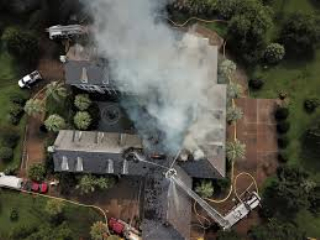smoke: (91, 7, 224, 171)
